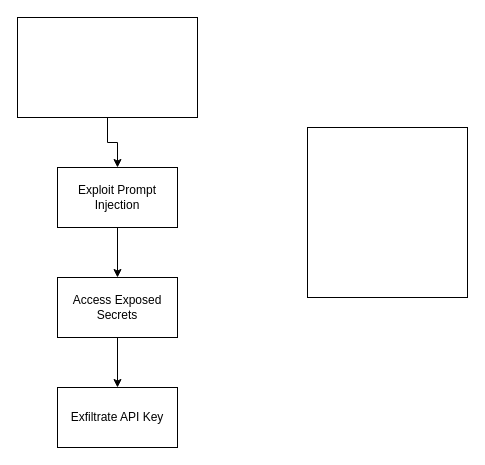
Image size: 485x465. Some labels were removed from this diagram. Here are the shapes that lost their labels. From the top down, the box of each, then its label:
(16, 16, 198, 118): GOAL: Exfiltration LLM API Key via Prompt Injection
(306, 126, 468, 298): Likelihood: 4/5 Impact: 5/5 Risk Score: 20/25 Risk Level: Critical
